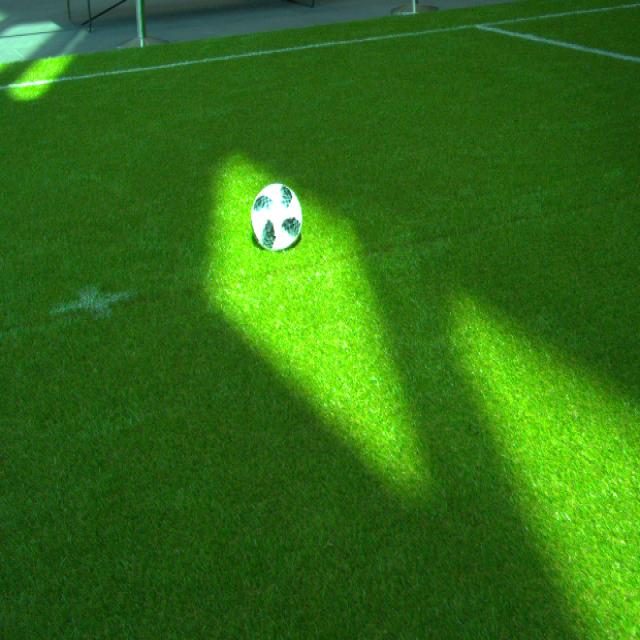ball: (252, 184, 303, 251)
